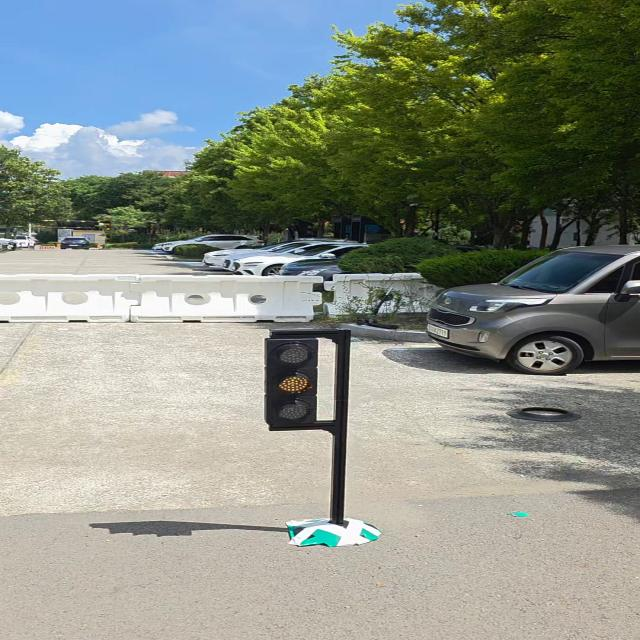yellow: (262, 338, 318, 423)
